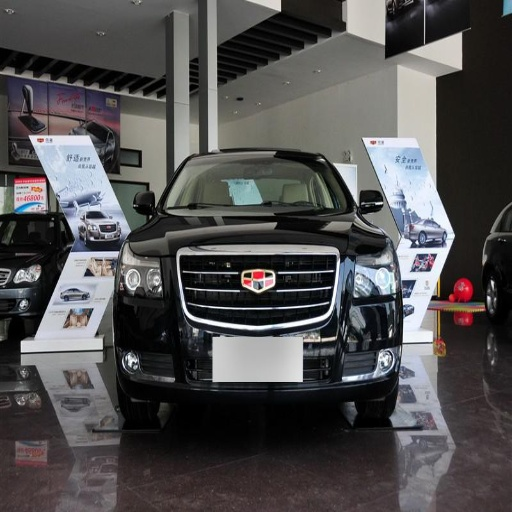front_bumper: (113, 246, 398, 403)
front_right_light: (119, 241, 166, 300)
hood: (136, 207, 379, 256)
